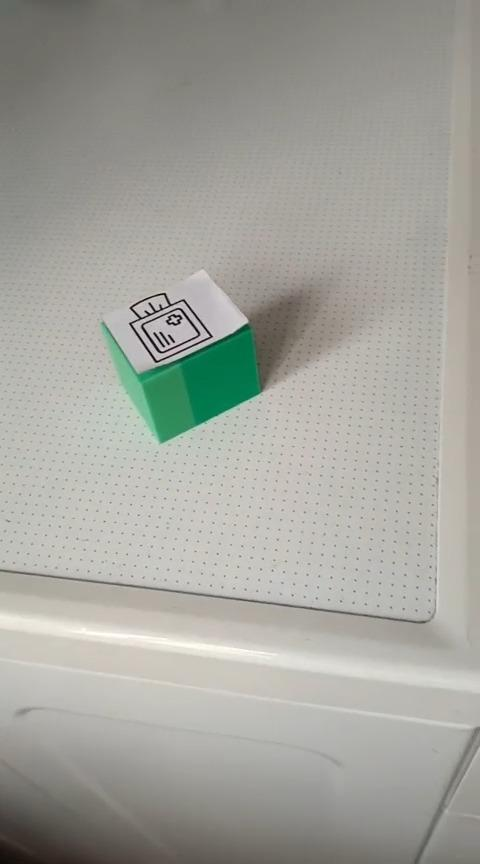Gauze: (99, 267, 262, 444)
